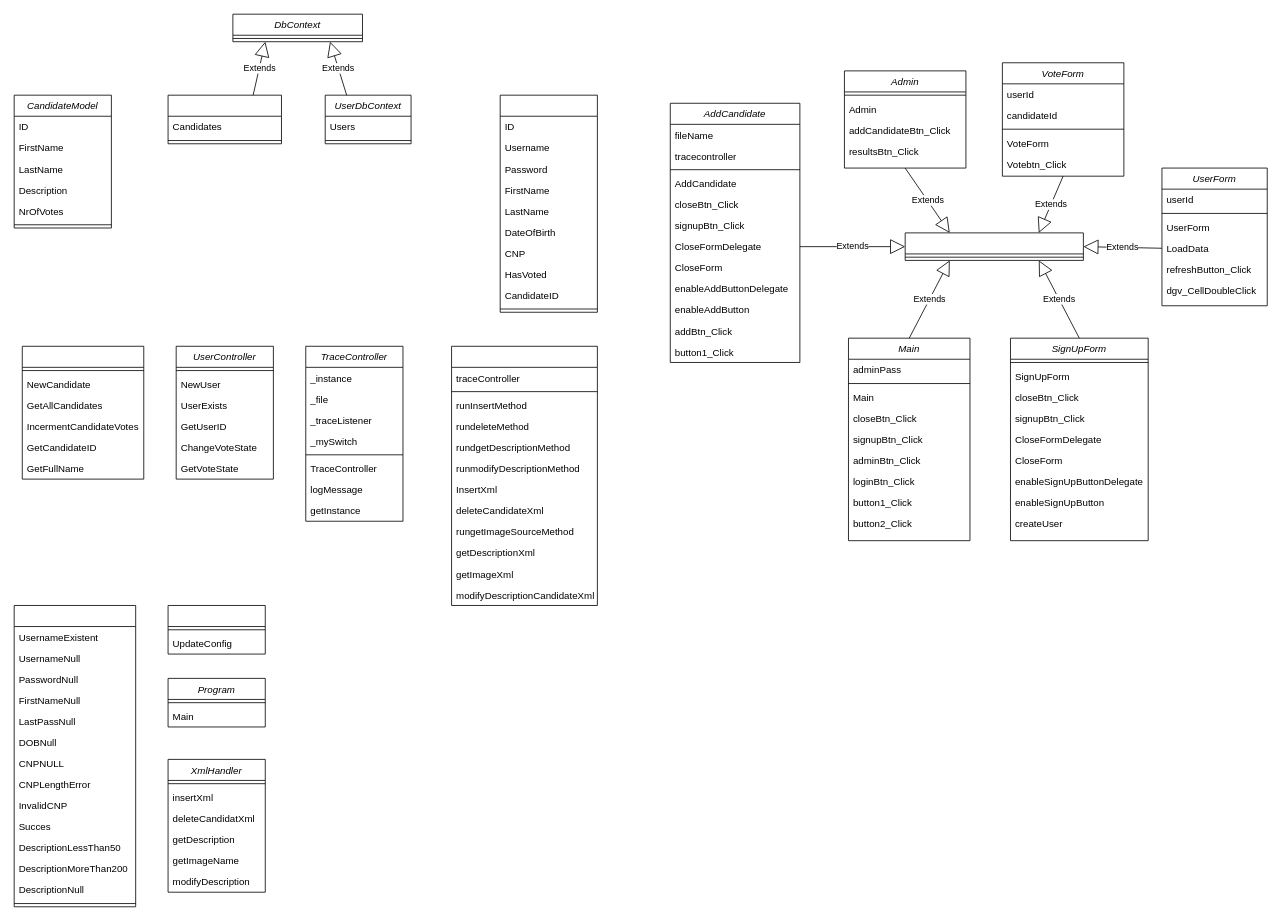
Some shapes in this 1281 by 921 pixel diagram are drawn without their labels. Each missing label, with the box of its shape:
CandidateController: (21, 345, 144, 479)
CandidateDbContext: (167, 94, 281, 144)
ChangeLanguage: (167, 605, 265, 654)
ErrorCodes: (13, 605, 136, 907)
Form: (904, 232, 1083, 260)
UserModel: (499, 94, 597, 312)
XmlController: (451, 345, 597, 605)
